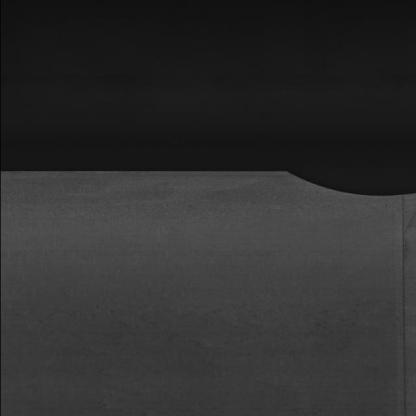crescent_gap: (278, 152, 416, 200)
welding_line: (387, 192, 414, 416)
